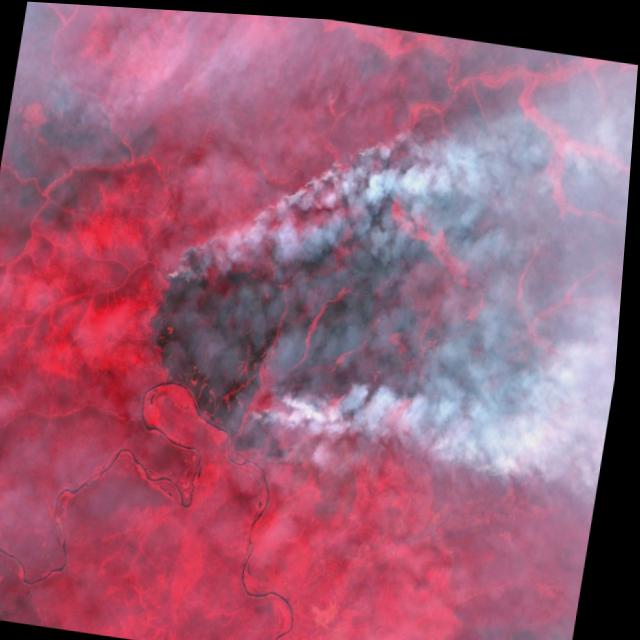fire: (212, 336, 510, 509), (165, 98, 392, 310)
